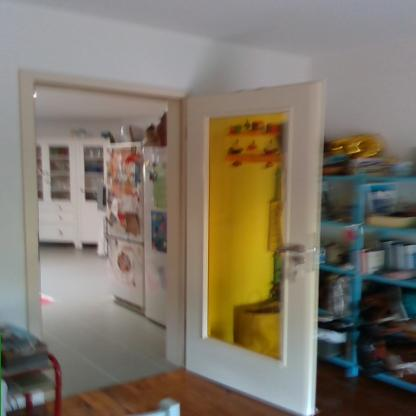open: (15, 72, 327, 399)
